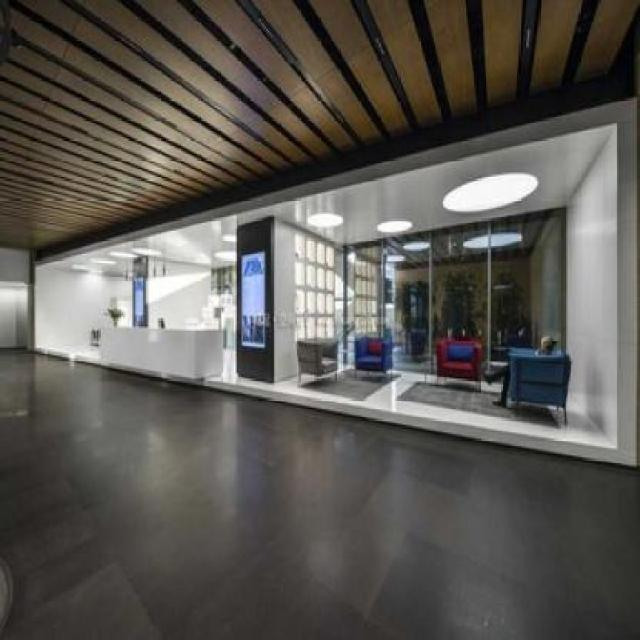frontdesk: (92, 314, 232, 390)
